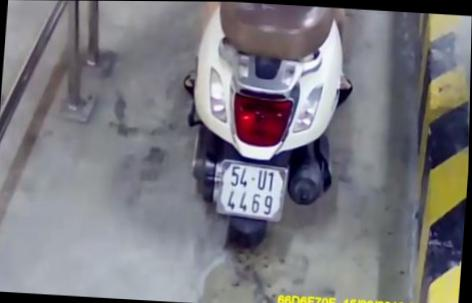LP: (215, 155, 291, 223)
